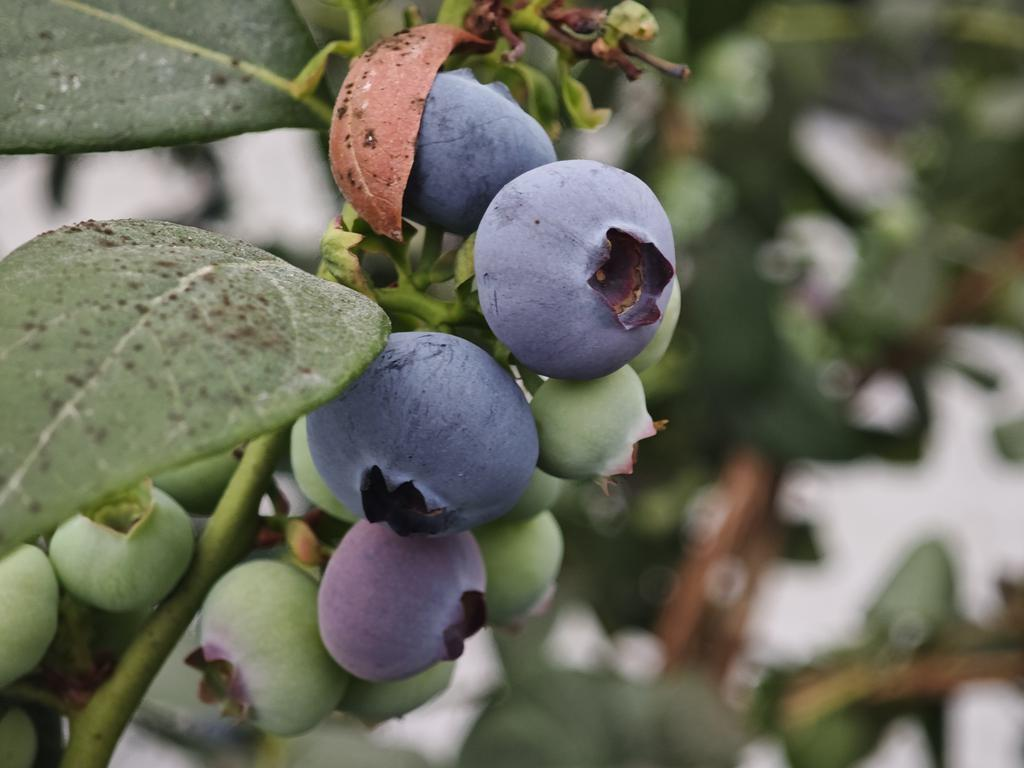RipeBlueBerry: (308, 330, 567, 532), (473, 162, 693, 394)
Semi-RipeBlueBerry: (307, 532, 522, 689)
